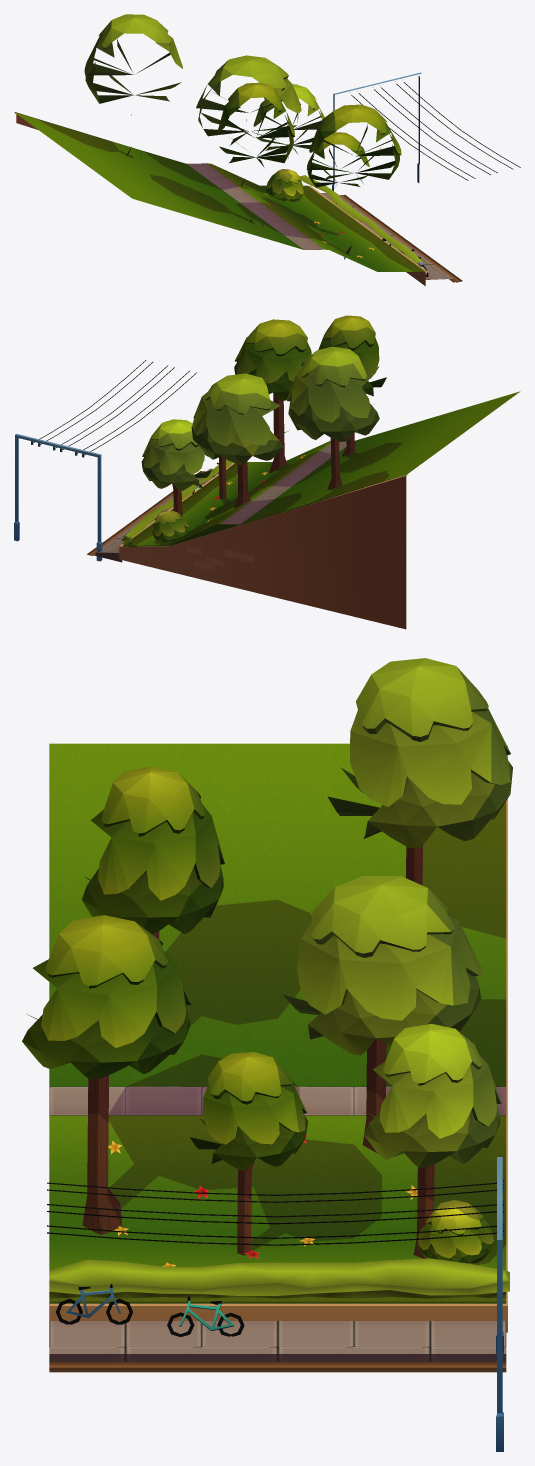
Rendered from 1.100_SanFrancisco_low_02_right.glb.
3 views of the same model, one above another, from view 1: azimuth 30°, elevation 25°; view 2: azimuth 150°, elevation 25°; view 3: azimuth 270°, elevation 25° (orthographic). The views are drawn at different scales.
Visible parts, largest first — view 1: 1.100_SanFrancisco_low_02_right; view 2: 1.100_SanFrancisco_low_02_right; view 3: 1.100_SanFrancisco_low_02_right.
Part boxes in pixels (x1,y1,x2,y2): 1.100_SanFrancisco_low_02_right: (14,14,520,285); 1.100_SanFrancisco_low_02_right: (14,315,520,629); 1.100_SanFrancisco_low_02_right: (22,658,512,1451).
Size of the model in its own units: 358 by 214 by 193.
2 materials, 2 textured.
